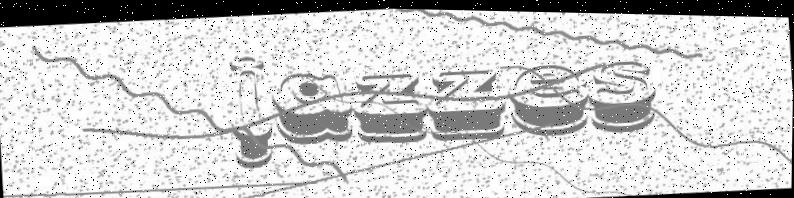a: (271, 69, 356, 146)
e: (507, 60, 591, 136)
i: (226, 53, 276, 169)
s: (586, 56, 659, 133)
z: (422, 66, 509, 141), (353, 70, 430, 144)
